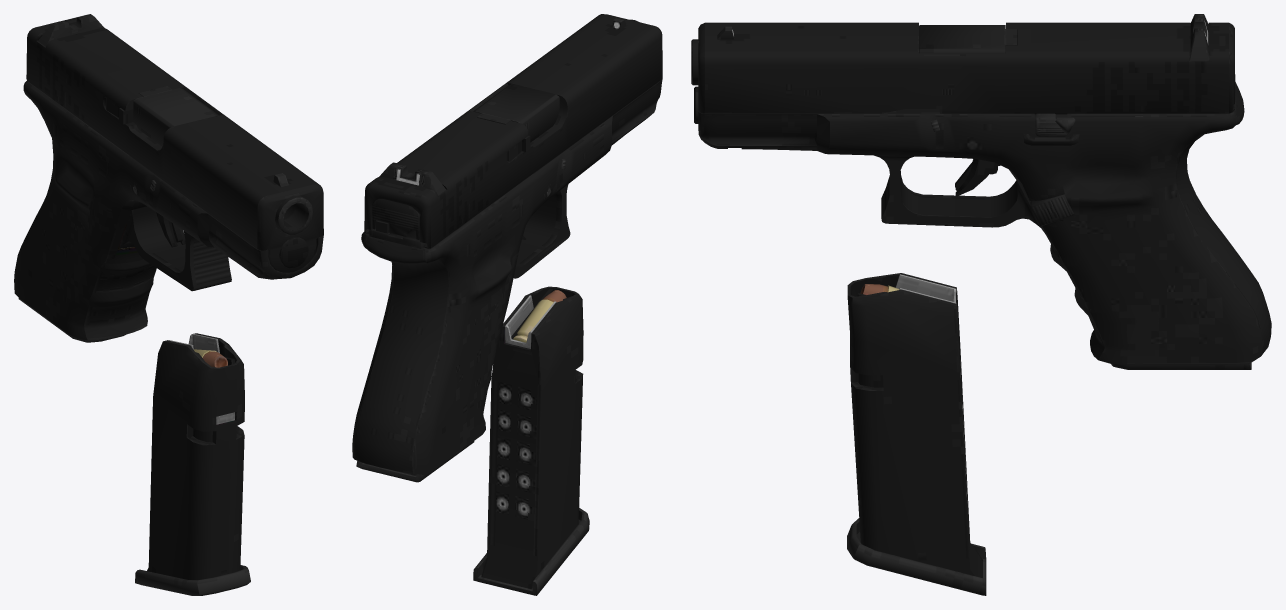
Rendered from Glock23.FBX.
3 renders of one model, left to right at view 1: azimuth 30°, elevation 25°; view 2: azimuth 150°, elevation 25°; view 3: azimuth 270°, elevation 25°, orthographic. The views are drawn at different scales.
Parts seen in each view (by area): view 1: Glock23, Slide, Mag2, Trigger; view 2: Glock23, Mag2, Slide, BulletMag2, Mag1; view 3: Glock23, Slide, Mag2, Trigger.
Part boxes in pixels (x1,y1,x2,y2): Glock23: (14,81,323,340); Slide: (26,14,323,272); Mag2: (135,333,250,595); Trigger: (156,212,185,247); Glock23: (352,19,662,474); Mag2: (473,286,589,595); Slide: (364,14,662,248); BulletMag2: (513,290,566,342); Mag1: (356,441,474,482); Glock23: (691,25,1271,364); Slide: (698,14,1234,130); Mag2: (847,273,986,595); Trigger: (955,159,1000,196).
Size of the model in its own units: 2.98 by 15.96 by 15.1.
